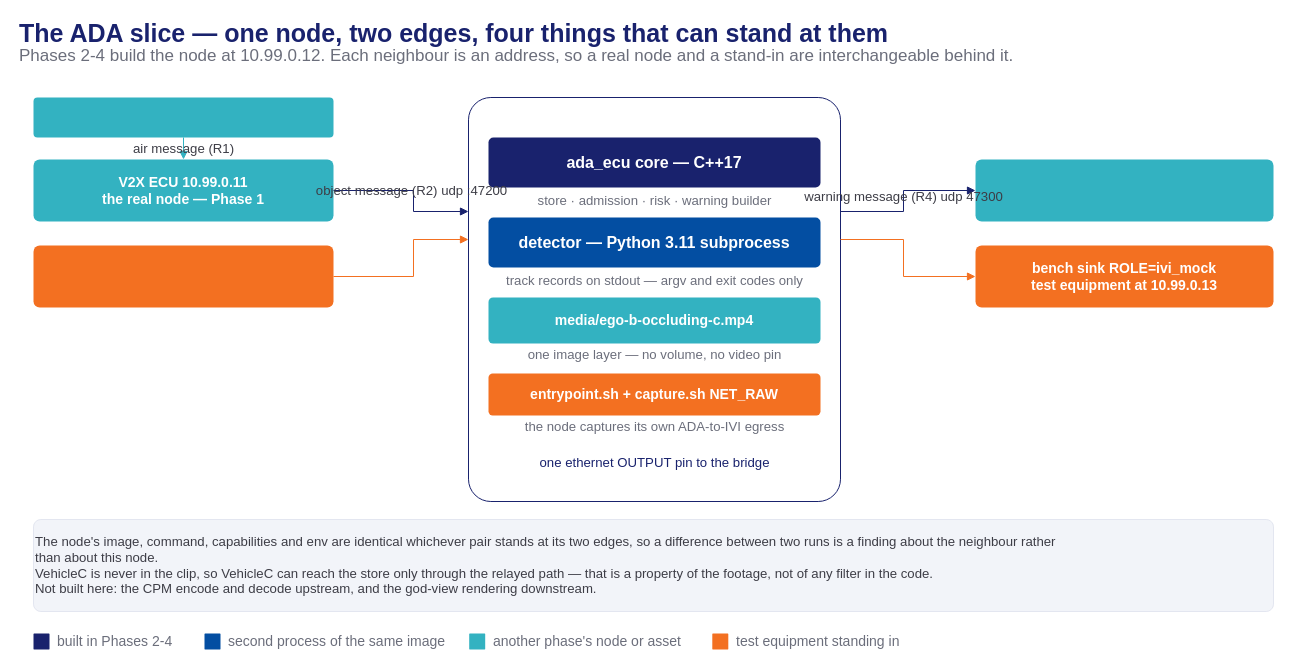
The diagram is 1306 pixels wide and 668 high, and some of its shapes have lost their labels. Each missing label, with the box of its shape:
bench emitter ROLE=v2x_mock test equipment at 10.99.0.11: (33, 245, 333, 307)
IVI ECU 10.99.0.13 Skycraft AAOS node — Phase 5: (975, 159, 1273, 221)
m1-ada-ecu:latest · Container Node · 10.99.0.12: (468, 96, 840, 502)
Scenario Player 10.99.0.10: (33, 97, 333, 137)
